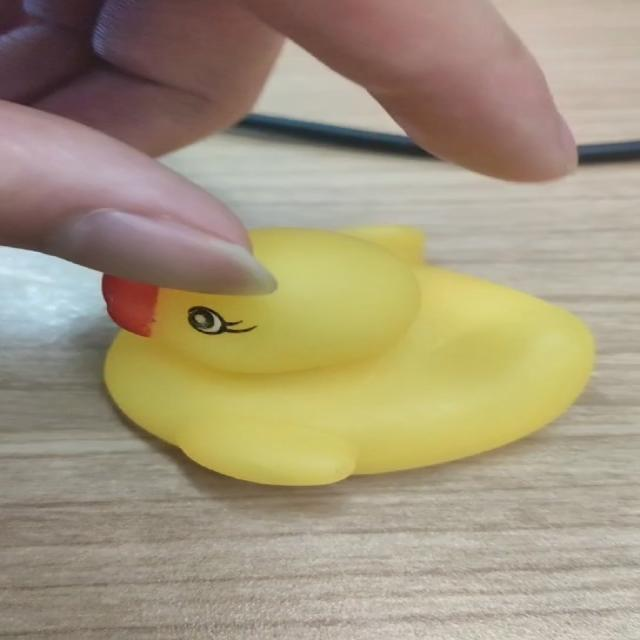rubber-duck: (103, 225, 592, 483)
